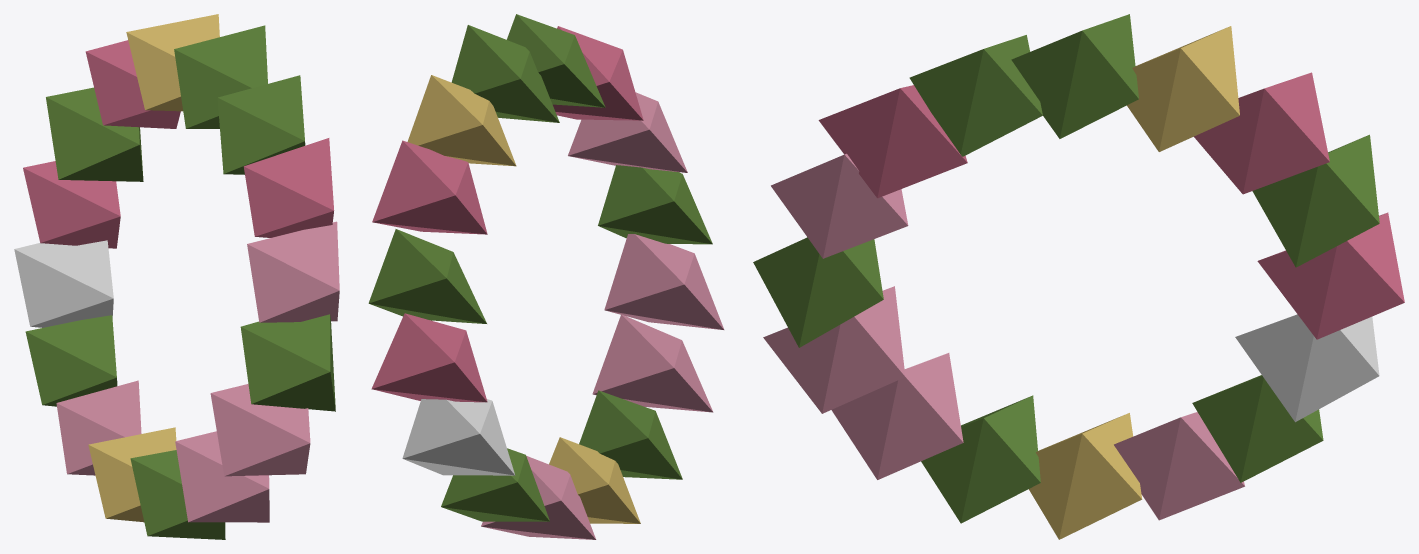
Rendered from gd_donkey_garland.glb.
3 views of the same model, side by side, from view 1: azimuth 30°, elevation 25°; view 2: azimuth 150°, elevation 25°; view 3: azimuth 270°, elevation 25° (orthographic). The views are drawn at different scales.
Parts seen in each view (by area): view 1: base; view 2: base; view 3: base.
Boxes of the visible parts, bbox=[...] form: base: bbox=[14, 14, 339, 539]; base: bbox=[368, 14, 724, 539]; base: bbox=[753, 14, 1404, 539].
Bounding box in the file's own units: 0.0459 × 0.1256 × 0.1316.
